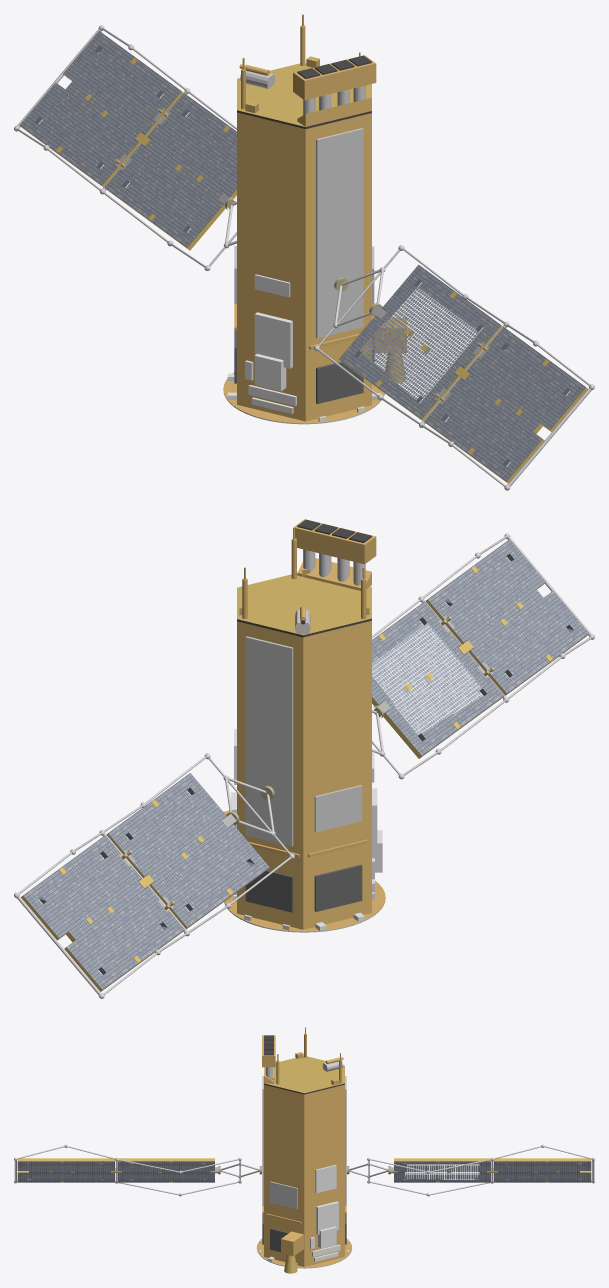
Rendered from oco2.glb.
The picture shows the model from 3 angles, top to bottom: view 1: azimuth 30°, elevation 25°; view 2: azimuth 150°, elevation 25°; view 3: azimuth 270°, elevation 25°; orthographic projection. The views are drawn at different scales.
Visible parts, largest first — view 1: Layer_0; view 2: Layer_0; view 3: Layer_0.
Boxes of the visible parts, x1,y1,x2,y2 form: Layer_0: (14, 14, 594, 490); Layer_0: (14, 519, 594, 998); Layer_0: (14, 1027, 594, 1273).
Size of the model in its own units: 7.63 by 15.41 by 39.87.
